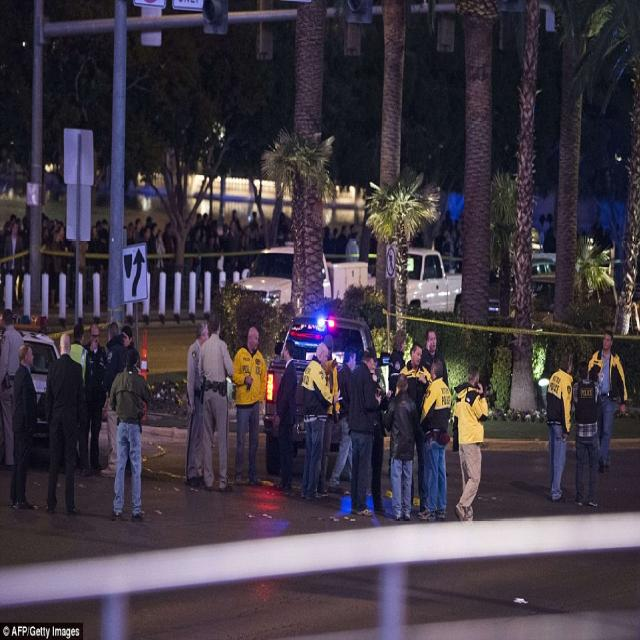body: (0, 207, 293, 301), (38, 330, 86, 519), (107, 346, 152, 524), (298, 340, 345, 502), (195, 310, 235, 494), (229, 322, 269, 489), (346, 345, 384, 518), (394, 342, 432, 514), (451, 363, 490, 523), (416, 355, 453, 521), (586, 328, 628, 474), (382, 370, 422, 521), (7, 342, 40, 516), (571, 359, 605, 508), (544, 348, 575, 504), (327, 344, 358, 496), (82, 321, 112, 474), (183, 320, 210, 488), (314, 333, 341, 501), (272, 336, 299, 501), (100, 319, 127, 477), (369, 354, 395, 516), (409, 204, 464, 279), (0, 307, 25, 466), (69, 320, 93, 478), (3, 220, 26, 308), (419, 326, 449, 388), (387, 327, 408, 399), (145, 218, 160, 312), (222, 220, 242, 286), (534, 209, 558, 256), (199, 228, 218, 287), (191, 226, 204, 305), (120, 323, 141, 370), (327, 225, 340, 276), (229, 208, 245, 248), (345, 224, 361, 262), (142, 225, 154, 274), (335, 224, 349, 264), (154, 227, 166, 271), (345, 230, 360, 264), (162, 222, 175, 254), (218, 221, 230, 253), (321, 225, 334, 254), (248, 210, 260, 231)
